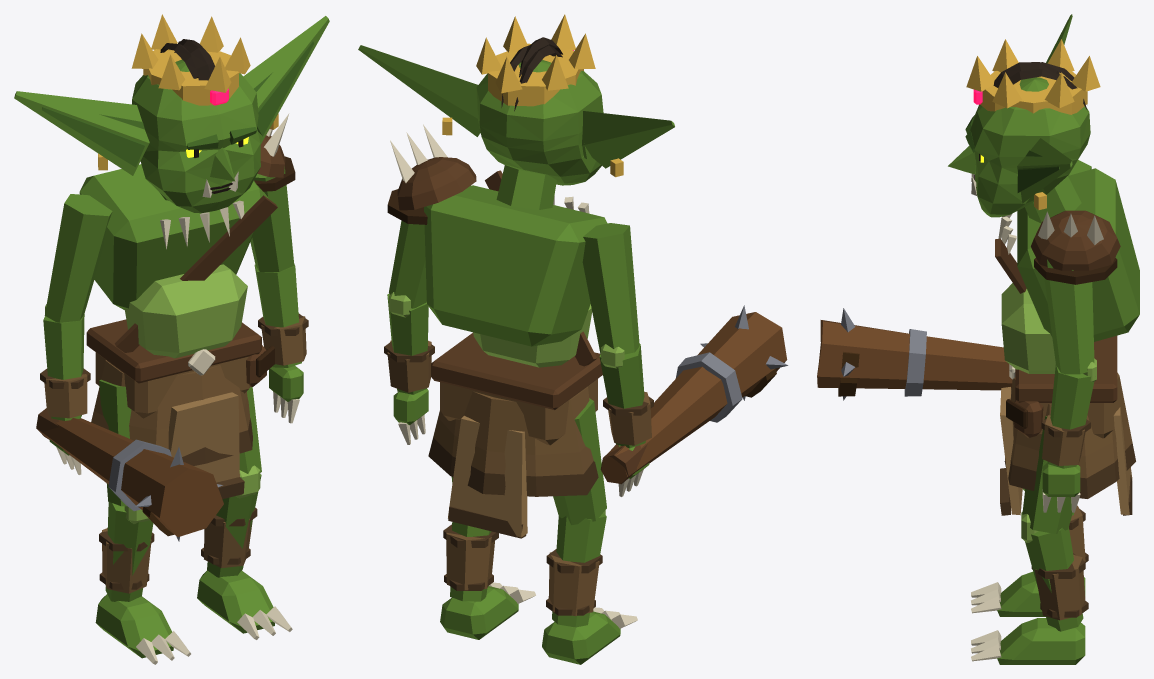
Rendered from goblin.glb.
3 renders of one model, left to right at view 1: azimuth 30°, elevation 25°; view 2: azimuth 150°, elevation 25°; view 3: azimuth 270°, elevation 25°, orthographic. The views are drawn at different scales.
Parts seen in each view (by area): view 1: Chest, HeadMesh, Club, Belly, ArmR_Upper, LoinSkirt, LoinFront, Belt, EarR.001, LegL_Foot, LegR_Foot, Strap (+30 smaller); view 2: Chest, LoinSkirt, HeadMesh, Club, Belt, ArmR_Upper, LoinBack, EarL.001, EarR.001, ShoulderPad, Hips, LegL_Foot (+20 smaller); view 3: Club, HeadMesh, Chest, LoinSkirt, ArmL_Upper, ShoulderPad, Belly, LegL_Foot, Belt, ArmL_Fore, LegL_Shin, LegL_Thigh (+23 smaller).
Part boxes in pixels (x1,y1,x2,y2): Chest: [79, 164, 268, 309]; HeadMesh: [132, 59, 260, 213]; Club: [39, 418, 223, 536]; Belly: [124, 264, 247, 358]; ArmR_Upper: [44, 194, 112, 322]; LoinSkirt: [91, 360, 252, 465]; LoinFront: [168, 392, 239, 482]; Belt: [86, 319, 261, 383]; EarR.001: [14, 91, 149, 175]; LegL_Foot: [197, 570, 274, 633]; LegR_Foot: [95, 594, 173, 658]; Strap: [114, 195, 277, 352]; Chest: [424, 185, 607, 346]; LoinSkirt: [428, 387, 598, 496]; HeadMesh: [476, 60, 603, 185]; Club: [601, 312, 787, 483]; Belt: [431, 333, 602, 409]; ArmR_Upper: [582, 223, 639, 354]; LoinBack: [448, 415, 527, 537]; EarL.001: [358, 45, 479, 136]; EarR.001: [582, 111, 674, 168]; ShoulderPad: [397, 157, 476, 210]; Hips: [440, 379, 597, 445]; LegL_Foot: [440, 586, 518, 639]; Club: [817, 320, 1012, 390]; HeadMesh: [970, 77, 1090, 217]; Chest: [1017, 168, 1139, 341]; LoinSkirt: [1004, 372, 1135, 498]; ArmL_Upper: [1044, 259, 1094, 374]; ShoulderPad: [1031, 210, 1120, 270]; Belly: [1001, 283, 1055, 373]; LegL_Foot: [997, 618, 1085, 664]; Belt: [1015, 335, 1117, 402]; ArmL_Fore: [1047, 364, 1094, 468]; LegL_Shin: [1025, 527, 1083, 631]; LegL_Thigh: [1022, 416, 1072, 533].
Bounding box in the file's own units: 0.7479 × 1.35 × 0.6813.
